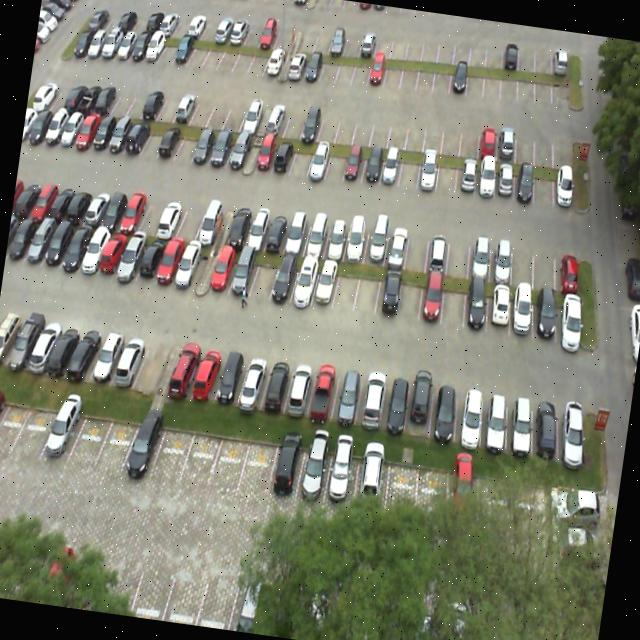empty: (64, 406, 113, 472), (96, 408, 140, 476), (12, 398, 58, 462), (208, 434, 251, 494), (181, 426, 224, 484), (152, 420, 194, 478), (240, 434, 280, 494), (133, 340, 169, 395), (509, 233, 542, 288), (246, 248, 278, 304), (0, 396, 31, 452), (136, 190, 170, 237), (533, 238, 563, 288), (447, 227, 475, 280), (332, 264, 361, 314), (173, 120, 203, 168), (402, 223, 432, 270), (441, 278, 469, 328), (176, 199, 208, 242), (356, 264, 382, 316), (397, 270, 423, 322), (398, 147, 424, 190), (325, 142, 350, 186), (532, 164, 558, 204), (292, 136, 314, 182), (437, 154, 460, 193)
occupied: (40, 403, 85, 468), (121, 413, 166, 477), (502, 390, 541, 456), (552, 394, 592, 458), (294, 444, 334, 508), (212, 346, 253, 408), (44, 320, 84, 380), (528, 392, 565, 456), (479, 386, 515, 450), (115, 226, 153, 285), (269, 440, 305, 502), (225, 243, 262, 303), (64, 326, 102, 384), (88, 330, 126, 388), (453, 385, 490, 444), (428, 382, 464, 442), (136, 225, 171, 285), (259, 356, 295, 414), (306, 361, 339, 424), (111, 332, 148, 388), (236, 352, 272, 409), (154, 235, 189, 292), (356, 368, 388, 430), (268, 246, 301, 306), (552, 286, 588, 341), (405, 378, 438, 437), (191, 344, 226, 399), (380, 371, 412, 430), (176, 236, 208, 294), (284, 360, 316, 418), (331, 366, 364, 422), (99, 223, 131, 280), (506, 282, 539, 336), (208, 242, 237, 302), (169, 344, 202, 396), (467, 227, 498, 280), (312, 258, 341, 312), (154, 194, 187, 241), (555, 242, 586, 292), (290, 256, 318, 310), (375, 268, 404, 320), (118, 190, 152, 234), (207, 124, 238, 172), (461, 280, 492, 328), (486, 282, 514, 335), (530, 290, 560, 339), (426, 220, 454, 272), (419, 272, 447, 324), (490, 232, 518, 282), (191, 122, 220, 170), (198, 202, 229, 246), (156, 117, 186, 162), (550, 163, 580, 208), (240, 207, 270, 252), (302, 212, 332, 257), (225, 128, 254, 174), (363, 218, 390, 266), (254, 130, 282, 176), (323, 214, 351, 260), (224, 207, 253, 249), (266, 208, 294, 250), (283, 212, 311, 254), (342, 218, 368, 262), (308, 137, 332, 183), (515, 160, 540, 204), (384, 225, 409, 268), (494, 161, 520, 202), (274, 134, 298, 177), (419, 150, 442, 193), (362, 146, 384, 188), (456, 157, 479, 196), (344, 145, 366, 184), (476, 159, 499, 196), (381, 147, 403, 185)
